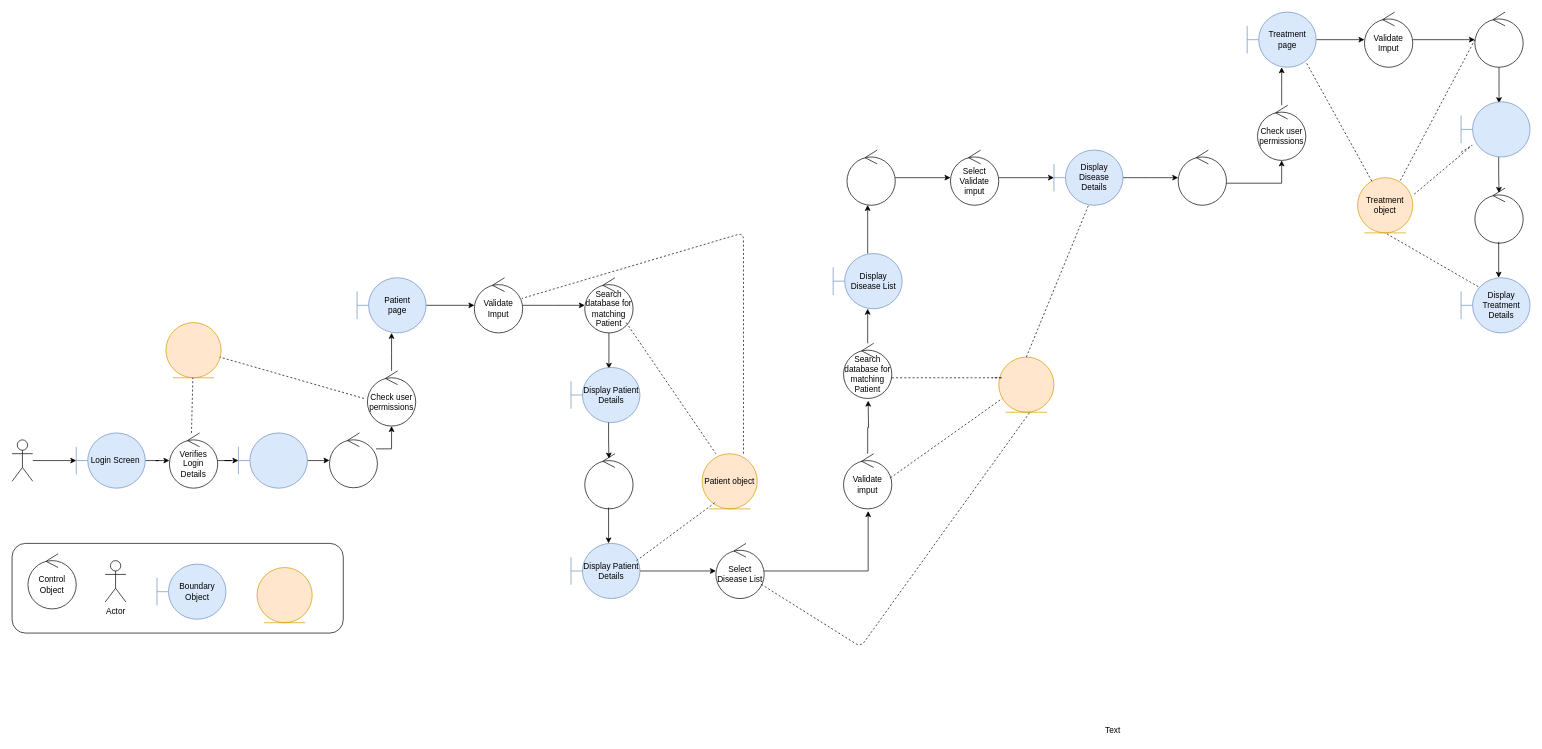
Some shapes in this 1542 by 749 pixel diagram are drawn without their labels. Each missing label, with the centre of its shape:
Account Object: point 193,350
Disease object: point 1026,384
Display Treatment List: point 1495,129
Entity/dto Object: point 284,595
Home Screen: point 272,460
Request Patient page: point 353,460
Search database for matching Treatment: point 1498,39
Select Disease: point 870,177
Select Patient: point 608,481
Select Treatment: point 1498,215
Select Treatment Page: point 1201,177
User: point 22,460
